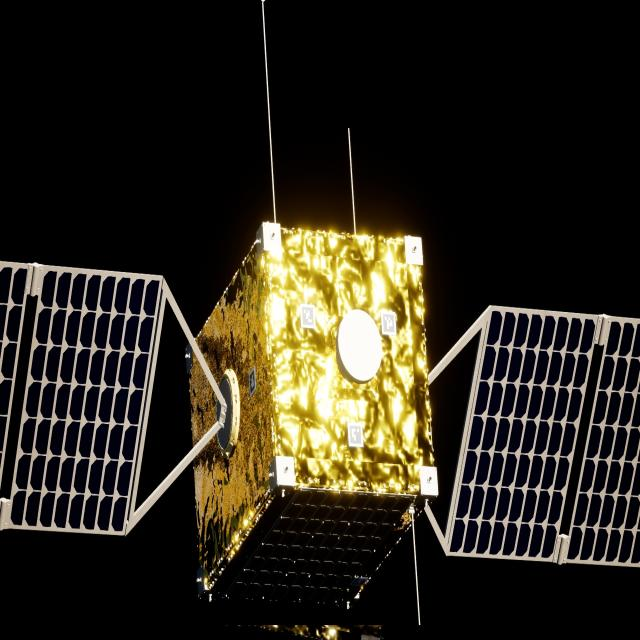satellite: (0, 222, 640, 618)
